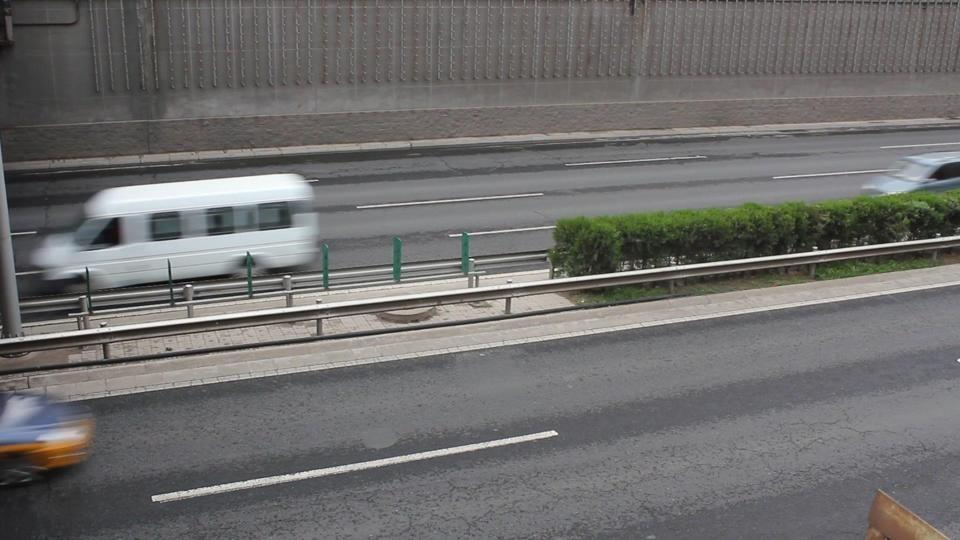car: (0, 391, 98, 481), (860, 150, 959, 197)
